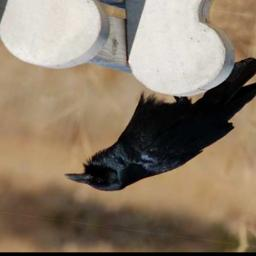Crow: (62, 34, 256, 210)
